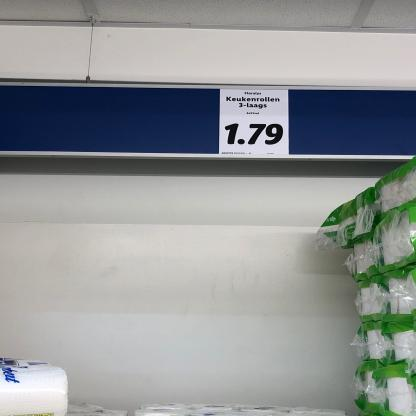prtg: (220, 90, 290, 156)
